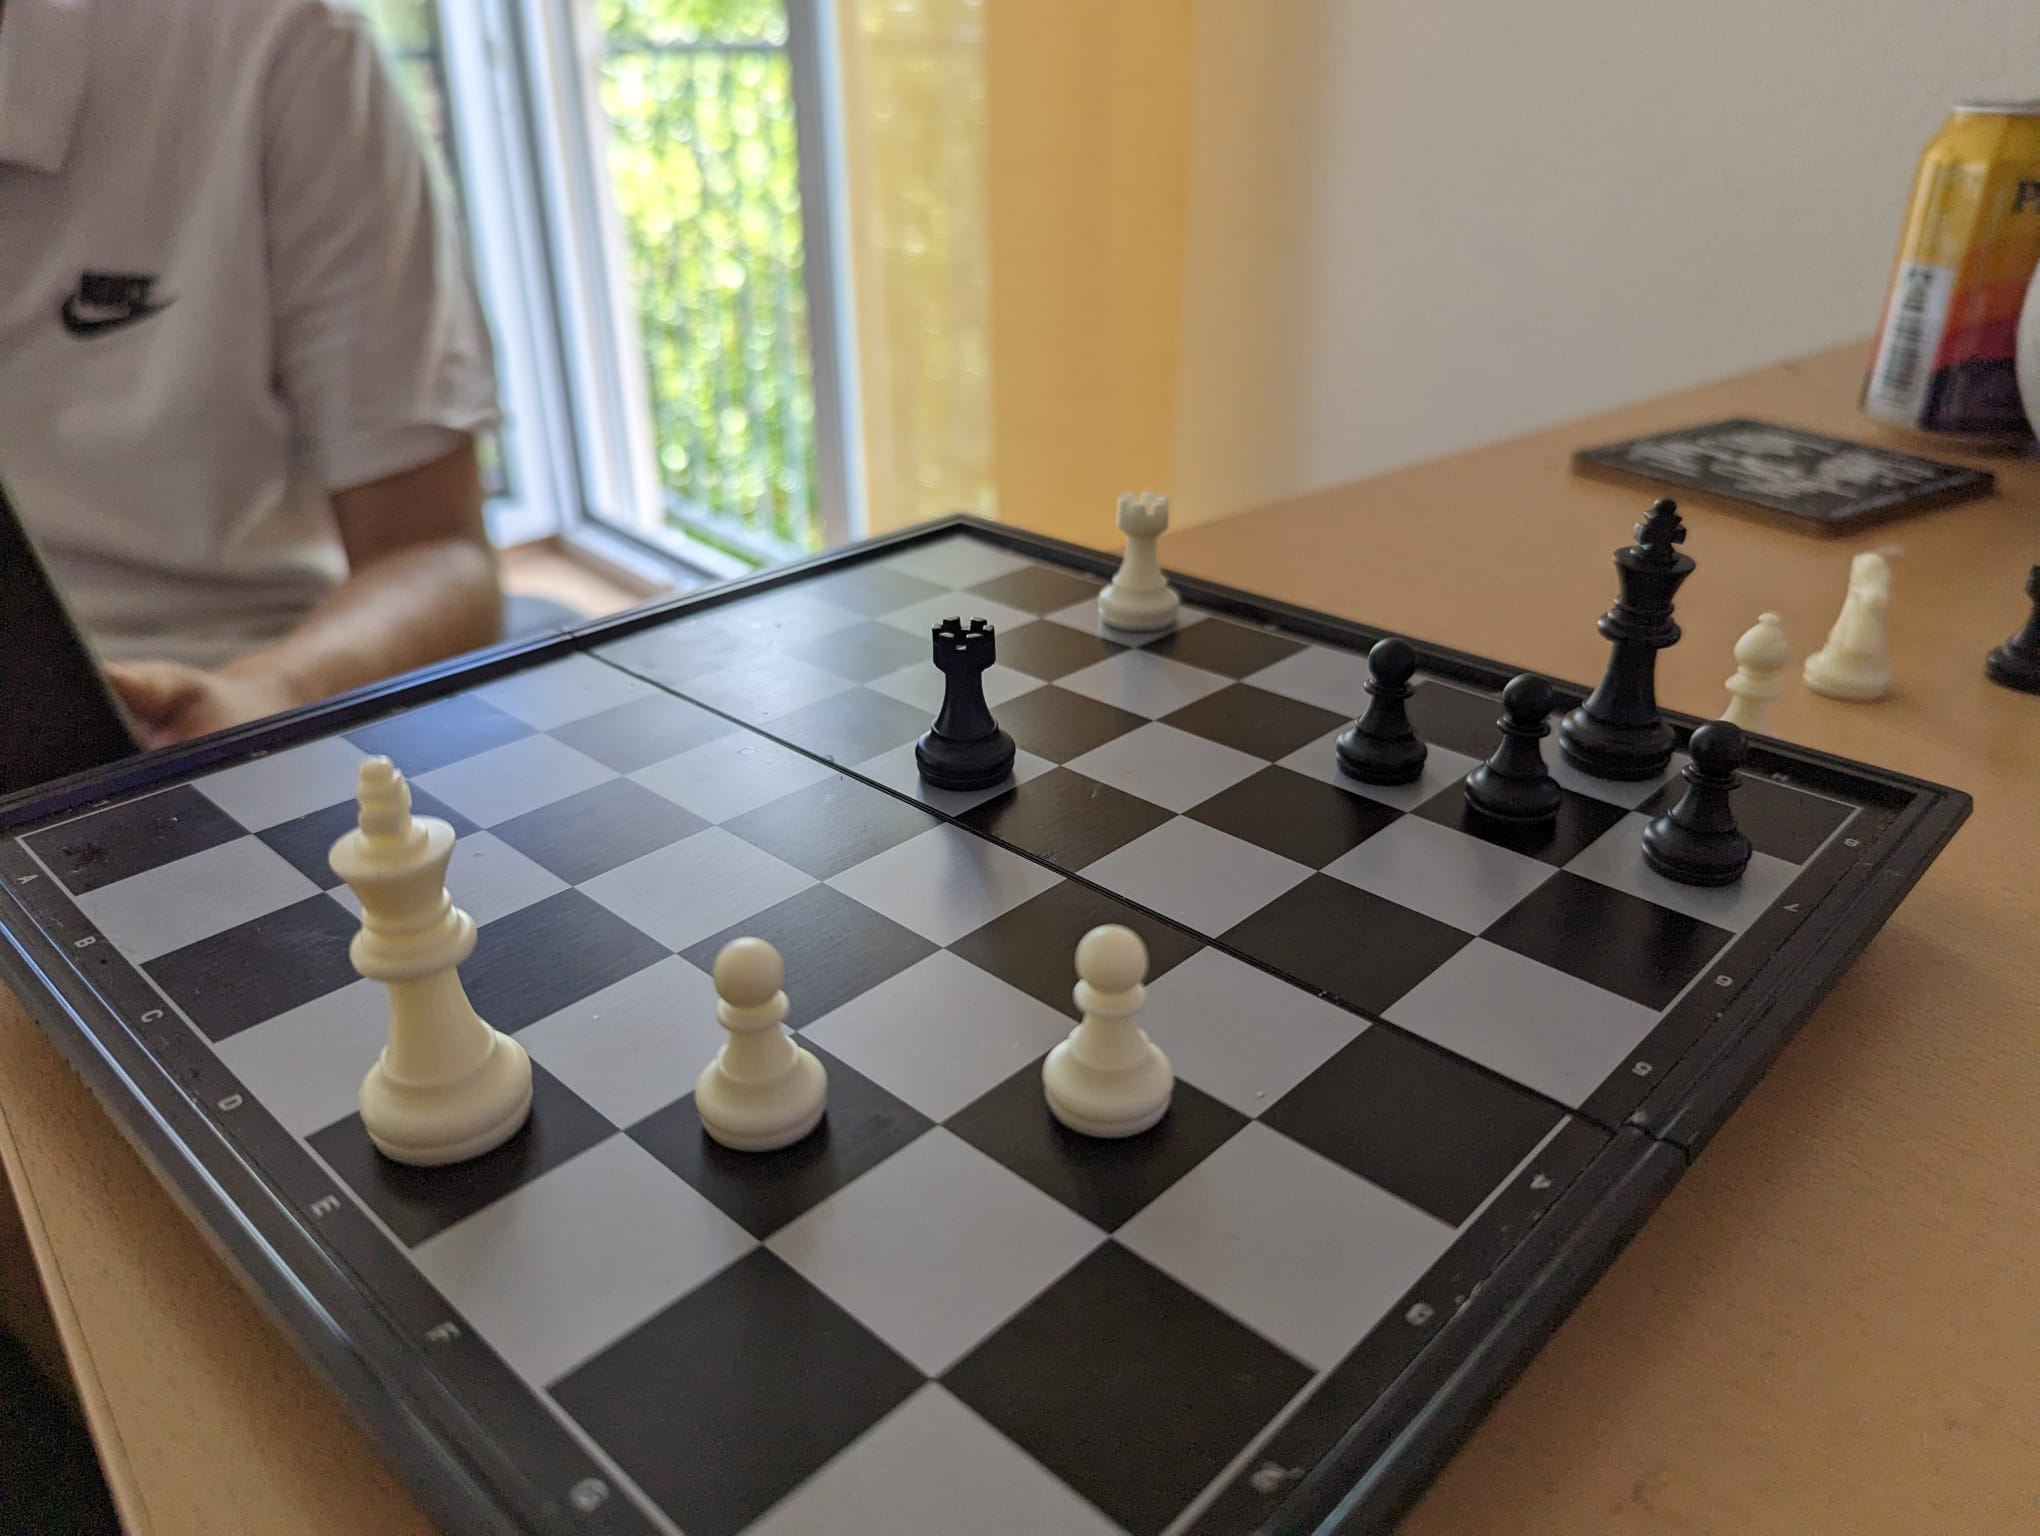BK: (1559, 490, 1695, 789)
BP: (1642, 720, 1759, 894), (1464, 666, 1563, 837), (1330, 631, 1434, 786)
BR: (913, 611, 1018, 795)
WK: (326, 753, 539, 1165)
WP: (1037, 916, 1180, 1139), (692, 933, 829, 1160)
WR: (1097, 487, 1184, 632)
